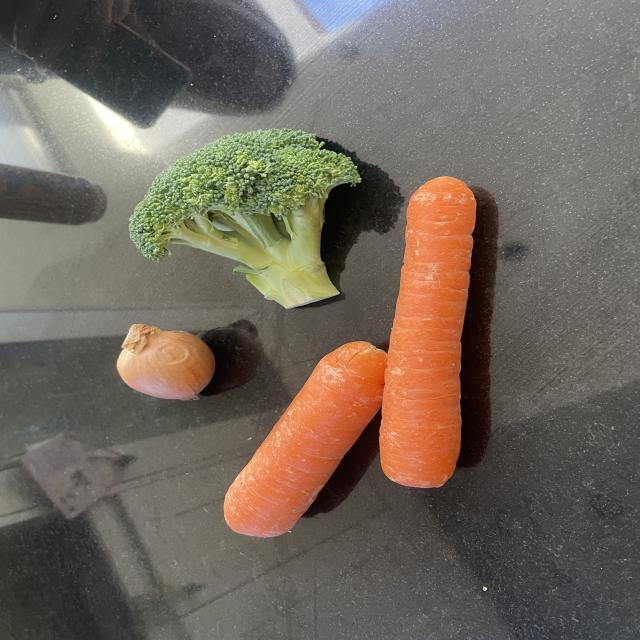Broccoli: (128, 127, 360, 311)
Carrot: (222, 340, 388, 540), (377, 175, 478, 490)
Onion: (115, 322, 216, 402)
